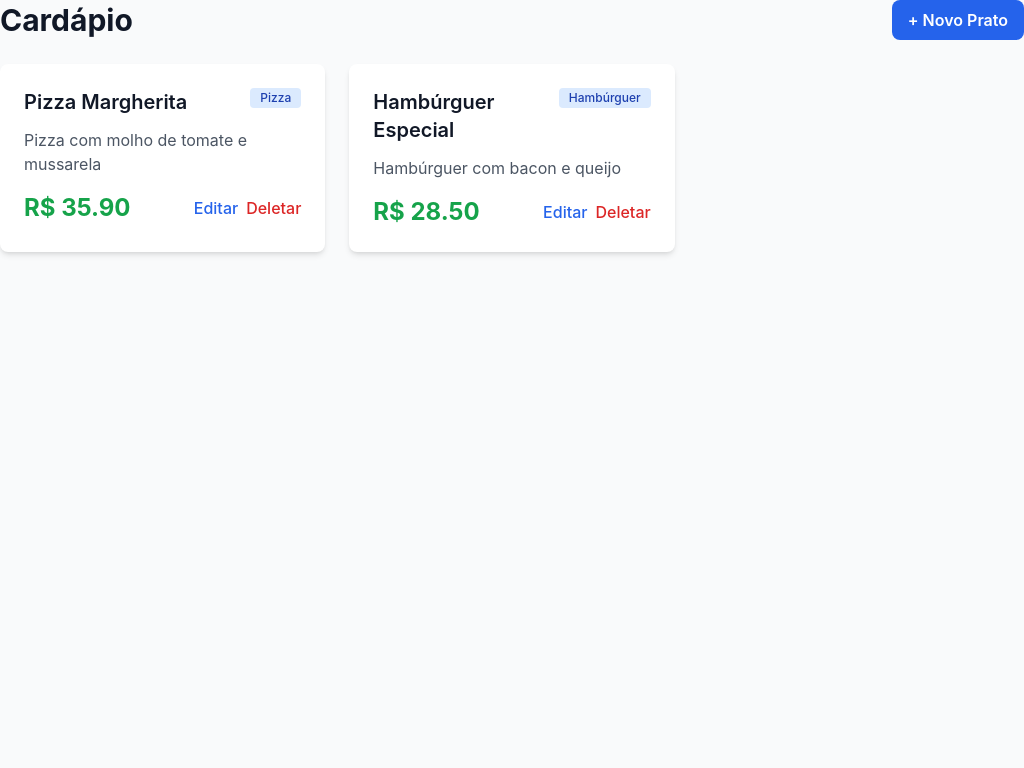
Test: PratosPage › should open edit modal when clicking edit button
This screenshot has width=1024, height=768.
Check: the heading "Pizza Margherita" is shown, box top-left (24, 88), bottom-right (187, 116)
Click the button "Editar" next to "35.90".
click(216, 208)  # box top-left (194, 196), bottom-right (238, 220)
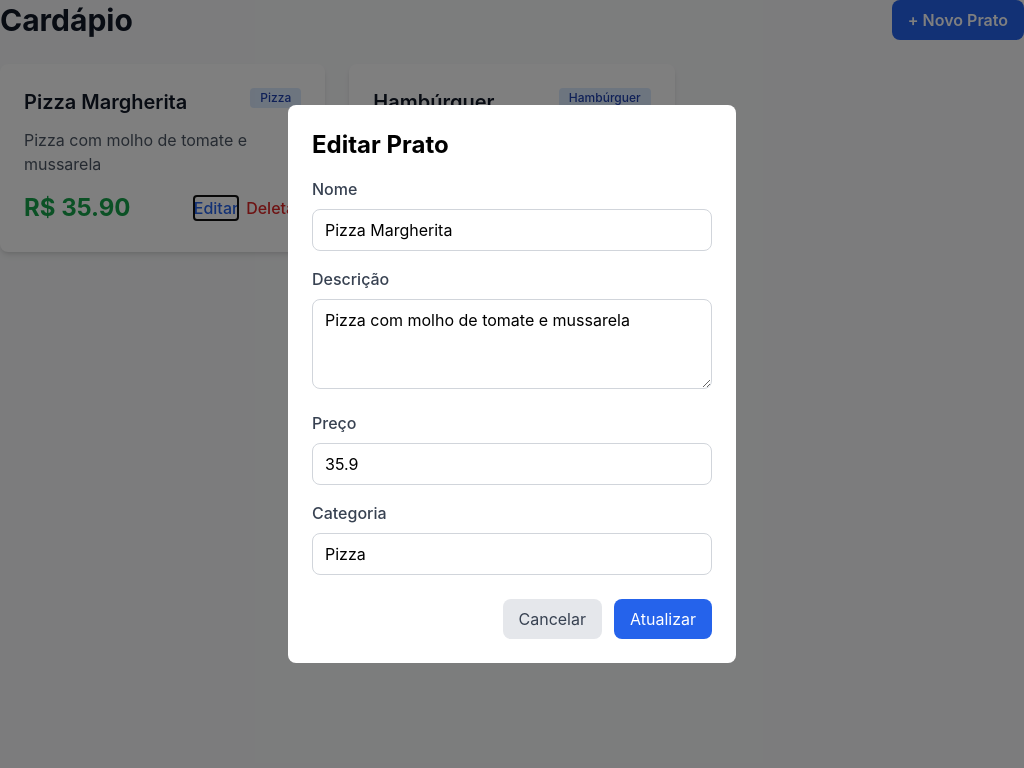
Check: the heading "Editar Prato" is shown, box top-left (312, 130), bottom-right (449, 159)
Check: the field showing "Pizza Margherita" is shown, box top-left (312, 209), bottom-right (712, 251)
